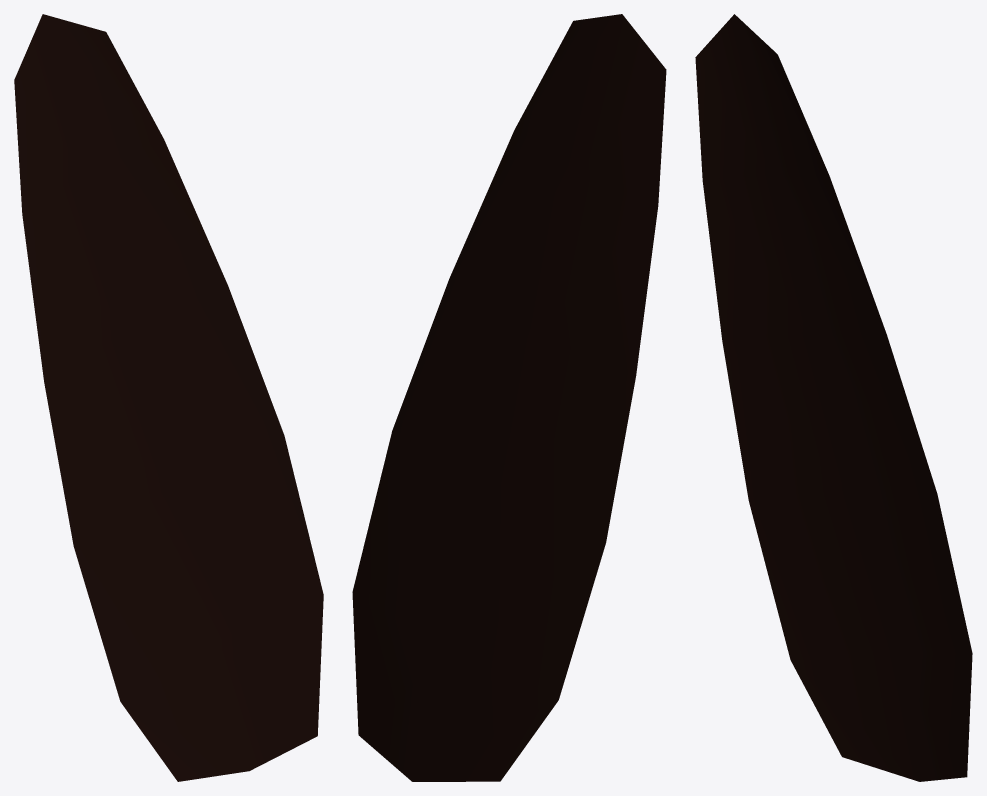
File: finch_feather_flight_secondary_025.obj
3 views of the same model, side by side, from view 1: azimuth 30°, elevation 25°; view 2: azimuth 150°, elevation 25°; view 3: azimuth 330°, elevation 25° (orthographic). The views are drawn at different scales.
Parts seen in each view (by area): view 1: feather_flight_secondary_025; view 2: feather_flight_secondary_025; view 3: feather_flight_secondary_025.
Boxes of the visible parts, left/top/right/bottom form: feather_flight_secondary_025: left=14, top=14, right=323, bottom=781; feather_flight_secondary_025: left=352, top=14, right=666, bottom=781; feather_flight_secondary_025: left=695, top=14, right=972, bottom=781.
Size of the model in its own units: 0.00795 by 0.0198 by 0.000339.
